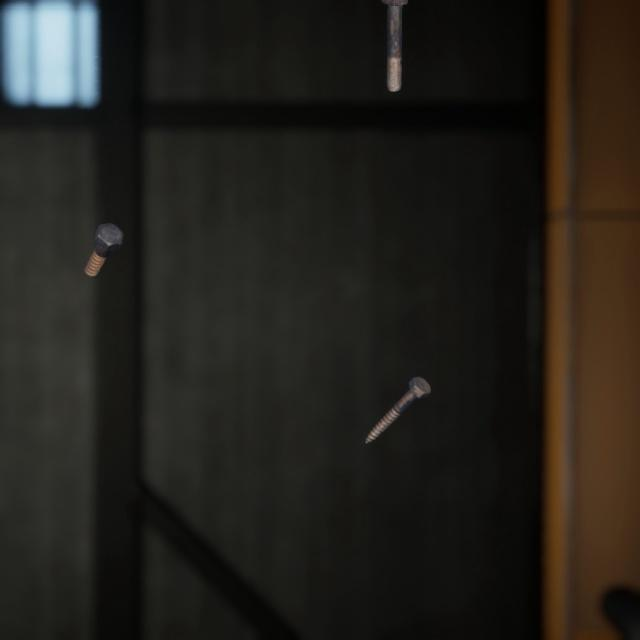bolt: (361, 353, 435, 429), (79, 202, 128, 265)
